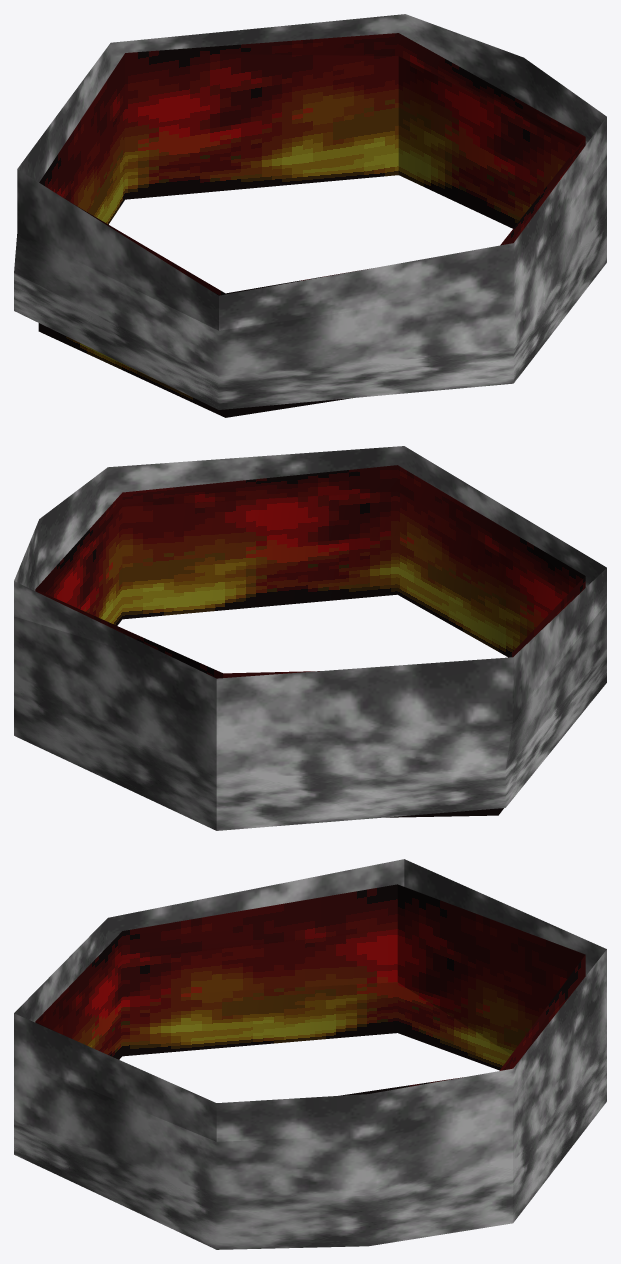
The model's file is STG0100_G_19.fbx.
The picture shows the model from 3 angles, top to bottom: view 1: azimuth 30°, elevation 25°; view 2: azimuth 150°, elevation 25°; view 3: azimuth 270°, elevation 25°; orthographic projection.
Parts seen in each view (by area): view 1: STG0100_G_19_s0100_nn040; view 2: STG0100_G_19_s0100_nn040; view 3: STG0100_G_19_s0100_nn040.
Boxes of the visible parts, box(x1,y1,x2,y2) form: STG0100_G_19_s0100_nn040: box(14, 14, 606, 417); STG0100_G_19_s0100_nn040: box(14, 446, 606, 830); STG0100_G_19_s0100_nn040: box(14, 859, 606, 1249).
Size of the model in its own units: 15560 by 5144 by 16009.
